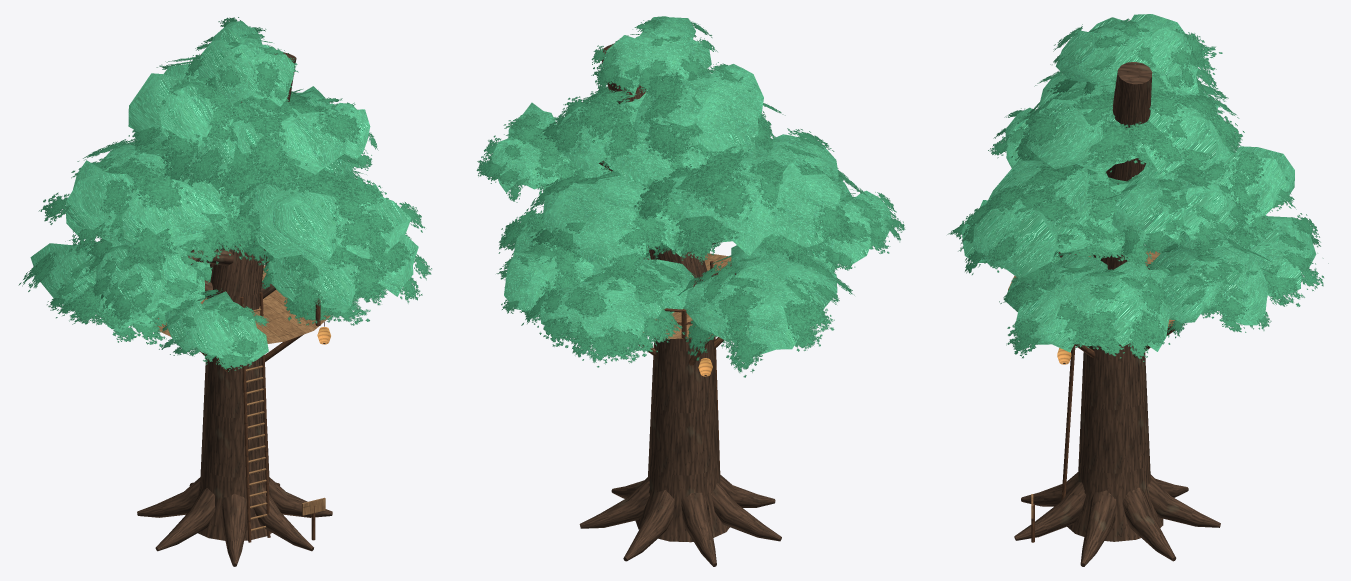
Rendered from tree_pine_big.gltf.
3 renders of one model, left to right at view 1: azimuth 30°, elevation 25°; view 2: azimuth 150°, elevation 25°; view 3: azimuth 270°, elevation 25°, orthographic. The views are drawn at different scales.
Visible parts, largest first — view 1: Crown, Trunk, Deck; view 2: Crown, Trunk, Deck; view 3: Crown, Trunk, Deck.
Part boxes in pixels (box(x1,y1,x2,y2)): Crown: box(18, 17, 431, 371); Trunk: box(137, 52, 332, 566); Deck: box(155, 256, 330, 542); Crown: box(476, 16, 905, 377); Trunk: box(579, 43, 781, 566); Deck: box(638, 253, 731, 473); Crown: box(947, 14, 1328, 361); Trunk: box(1014, 62, 1220, 566); Deck: box(1008, 247, 1182, 542).
Size of the model in its own units: 13.88 by 18.06 by 12.61.
Materials: 6 (6 with a texture image).
